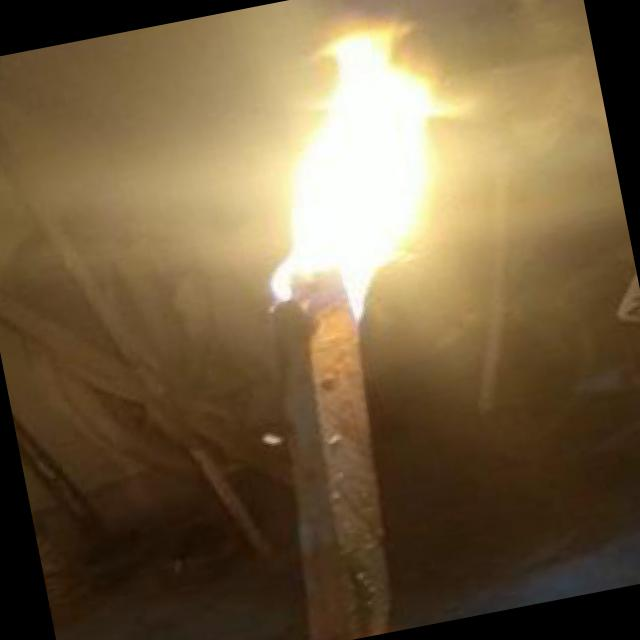fire: (206, 0, 520, 347)
